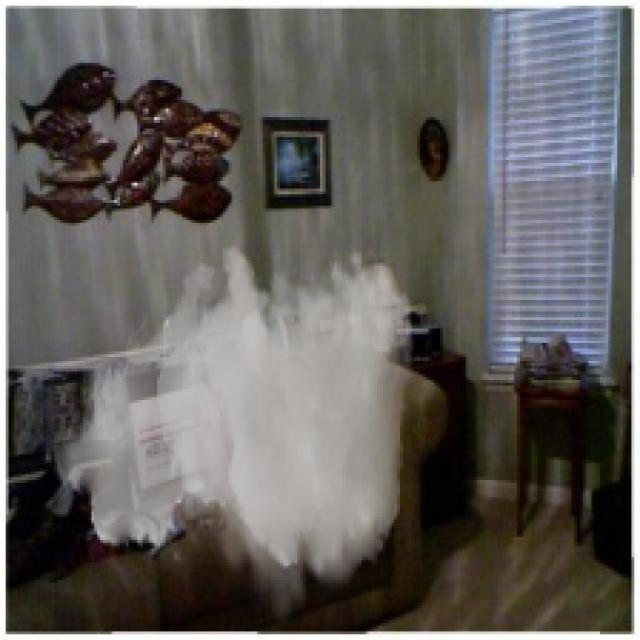Smoke: (42, 243, 414, 632)
